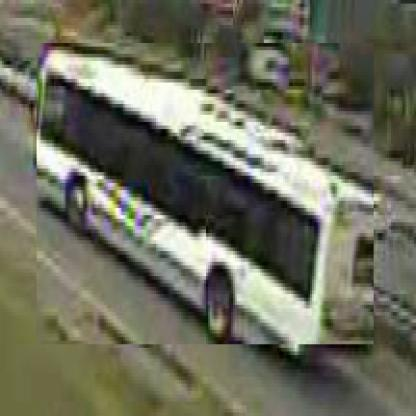bus: (38, 44, 377, 349)
